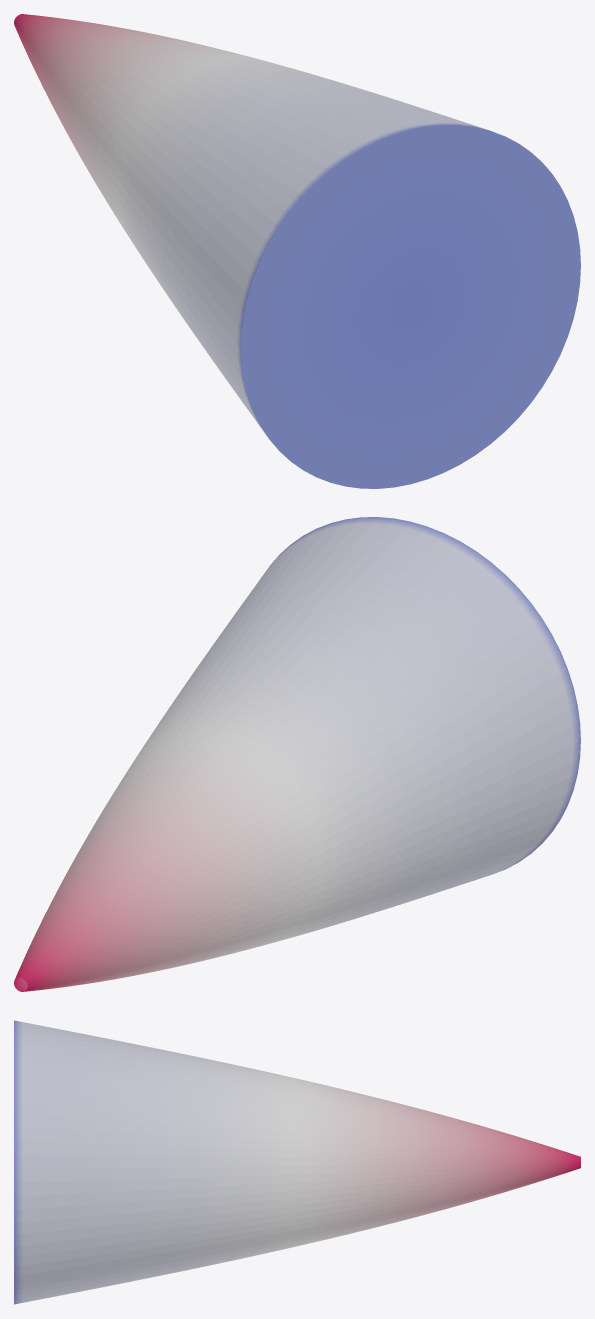
File: frame_001_unlit.glb
3 renders of one model, top to bottom at view 1: azimuth 30°, elevation 25°; view 2: azimuth 150°, elevation 25°; view 3: azimuth 270°, elevation 25°, orthographic. The views are drawn at different scales.
Parts seen in each view (by area): view 1: geometry_0; view 2: geometry_0; view 3: geometry_0.
Boxes of the visible parts, bbox=[...] form: geometry_0: bbox=[14, 14, 580, 488]; geometry_0: bbox=[14, 517, 580, 991]; geometry_0: bbox=[14, 1020, 580, 1304].
Size of the model in its own units: 0.5029 by 0.5014 by 1.
